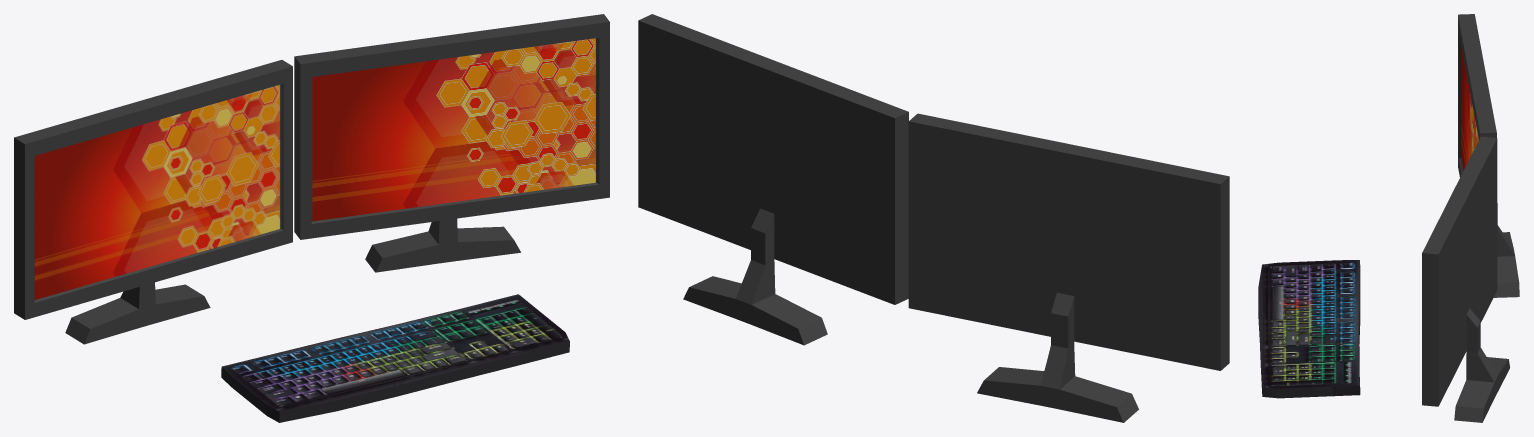
Rendered from Pantalla Gamma Alta.fbx.
3 renders of one model, left to right at view 1: azimuth 30°, elevation 25°; view 2: azimuth 150°, elevation 25°; view 3: azimuth 270°, elevation 25°, orthographic. The views are drawn at different scales.
Parts seen in each view (by area): view 1: Table; view 2: Table; view 3: Table.
Boxes of the visible parts, x1=… form: Table: x1=14, y1=14, x2=609, y2=422; Table: x1=638, y1=14, x2=1229, y2=422; Table: x1=1258, y1=14, x2=1519, y2=422.
Size of the model in its own units: 167 by 64.83 by 76.85.
